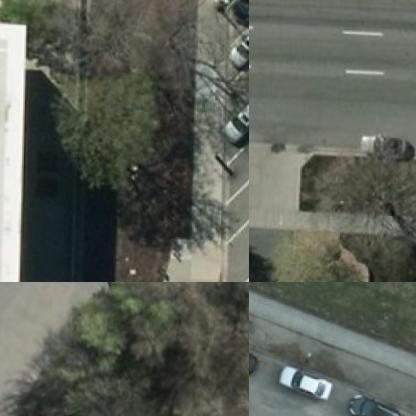car: (278, 368, 333, 401), (363, 135, 415, 164), (220, 94, 248, 144), (347, 395, 404, 415), (231, 21, 248, 70), (249, 333, 261, 375)
